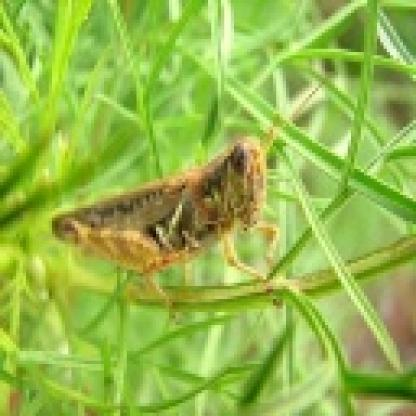grasshopper: (54, 128, 289, 290)
